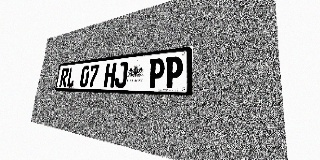0: (79, 65, 90, 87)
7: (87, 64, 99, 87)
H: (103, 63, 117, 88)
J: (114, 61, 128, 88)
L: (66, 67, 76, 87)
P: (164, 56, 183, 88), (148, 58, 165, 88)
R: (59, 68, 69, 87)
